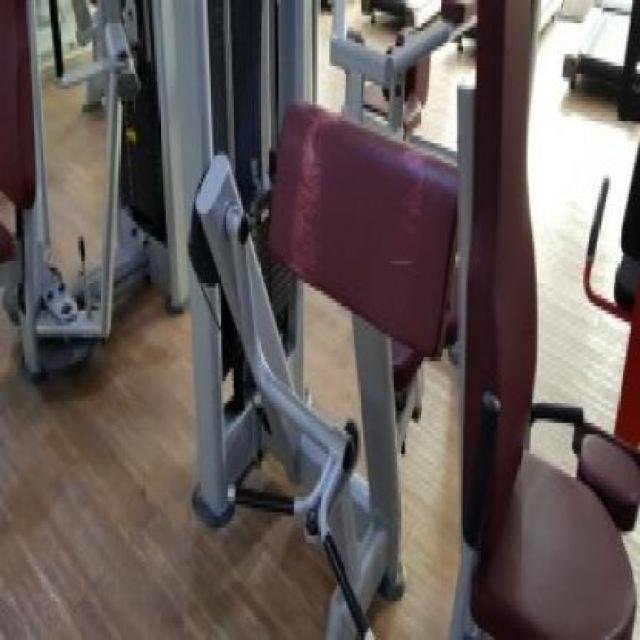arm curl machine: (177, 92, 460, 640)
